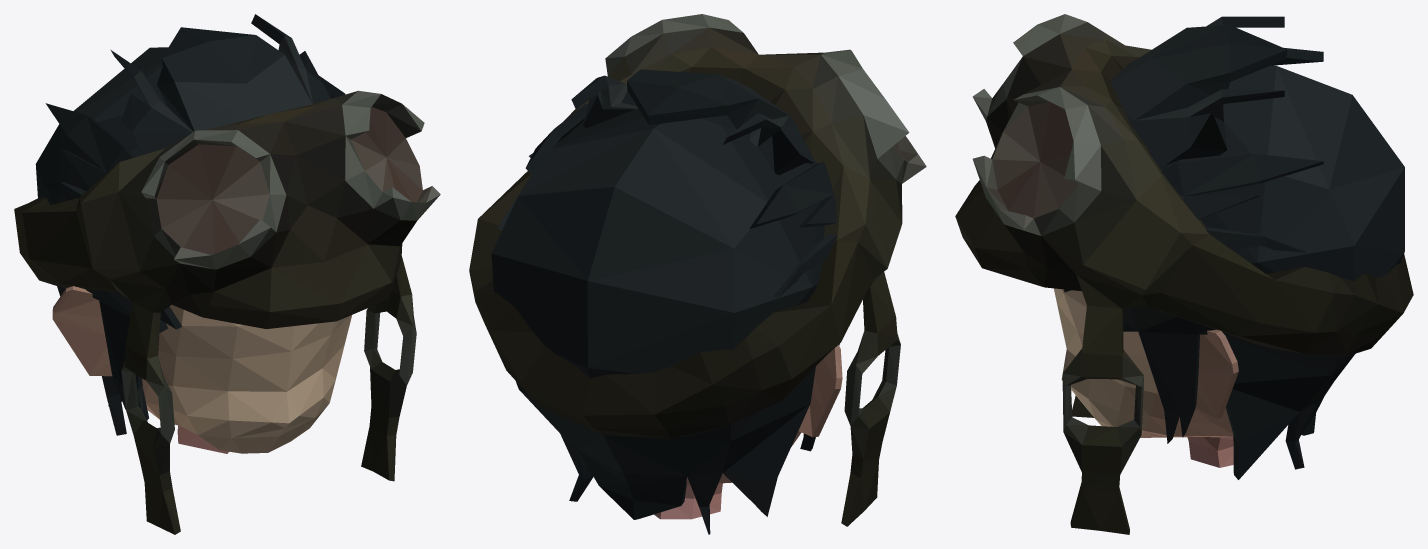
The model's file is helm_lightskin_spike_black_goggles.fbx.
The picture shows the model from 3 angles, left to right: view 1: azimuth 30°, elevation 25°; view 2: azimuth 150°, elevation 25°; view 3: azimuth 270°, elevation 25°; orthographic projection. The views are drawn at different scales.
Visible parts, largest first — view 1: helm_lightskin_spike_black_goggles; view 2: helm_lightskin_spike_black_goggles; view 3: helm_lightskin_spike_black_goggles.
Boxes of the visible parts, x1,y1,x2,y2 form: helm_lightskin_spike_black_goggles: (14, 14, 440, 534); helm_lightskin_spike_black_goggles: (469, 14, 926, 534); helm_lightskin_spike_black_goggles: (955, 14, 1413, 534).
Bounding box in the file's own units: 1.21 × 1.45 × 1.39.
